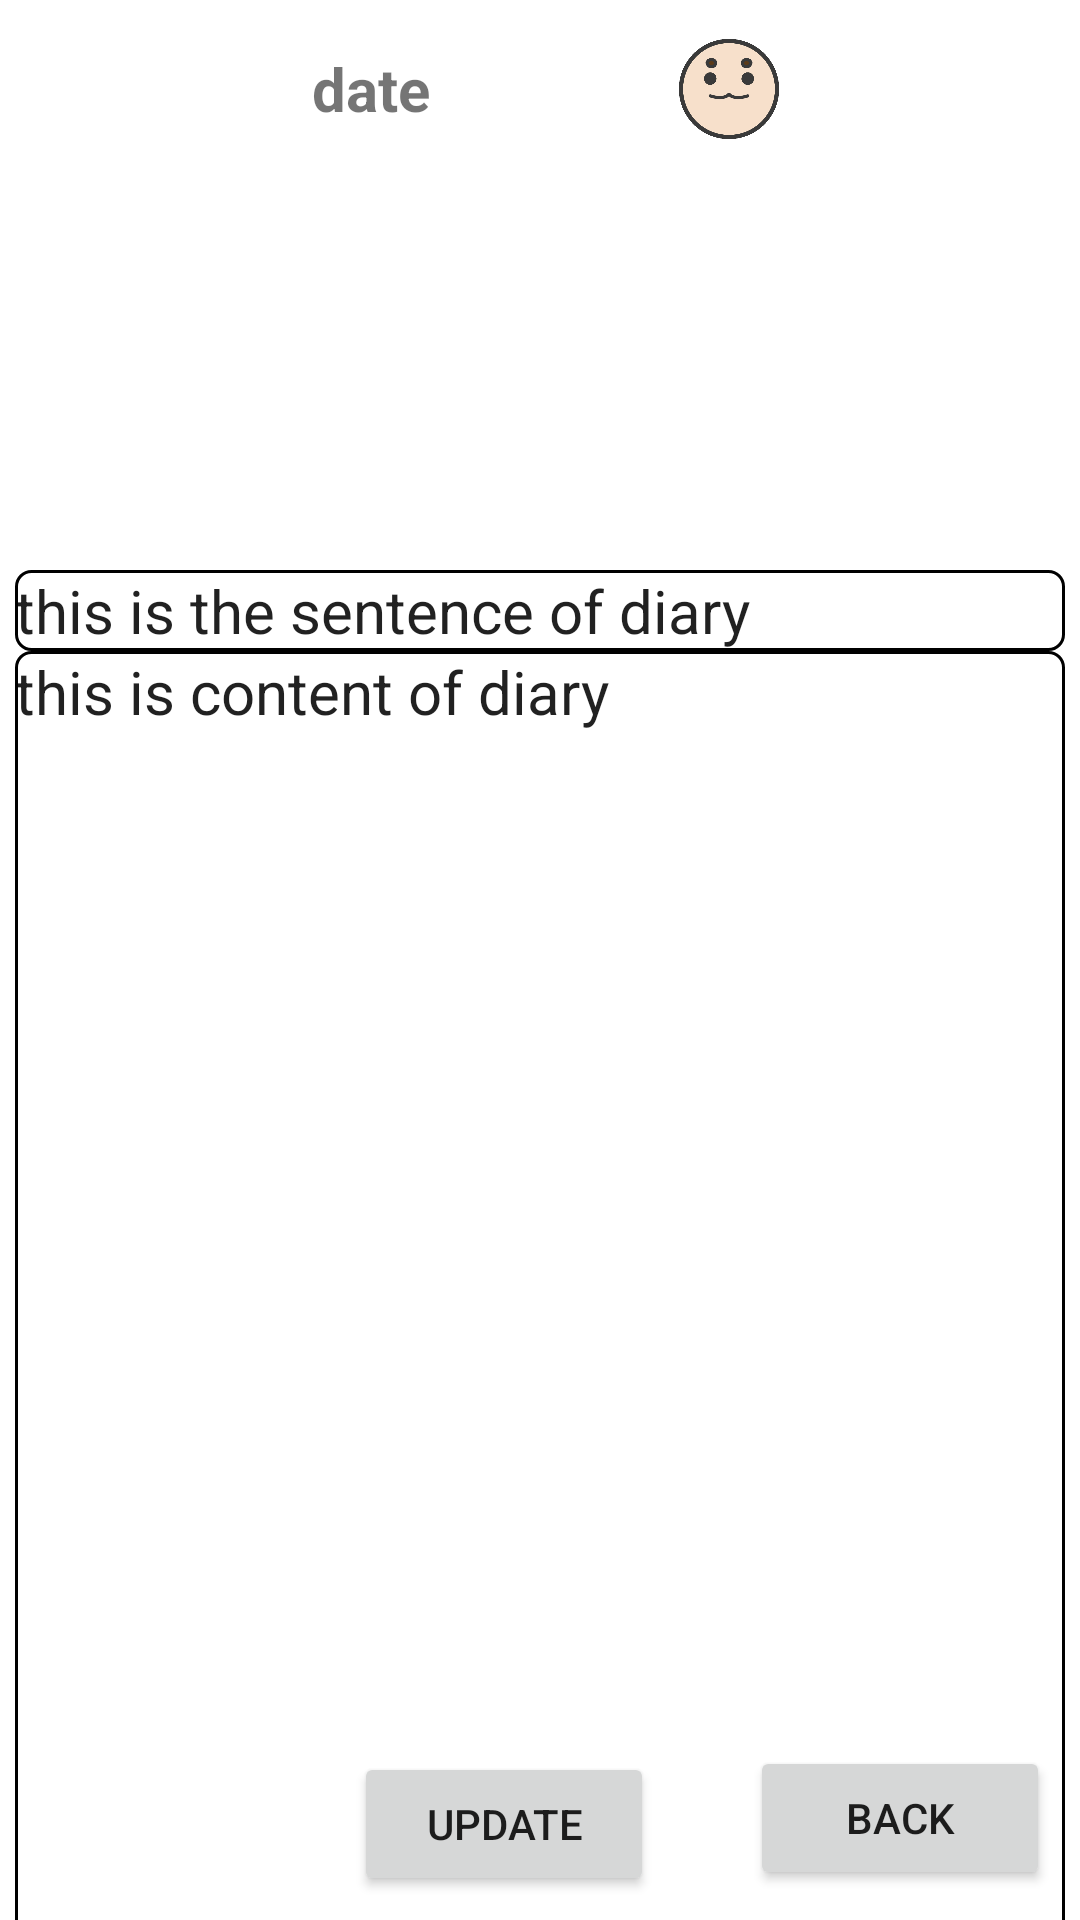

Locate icon controls on the screen. Image size 1080×1920, boxes as BBox(x1, y1, x2, y2).
notbad: BBox(679, 39, 779, 139)
